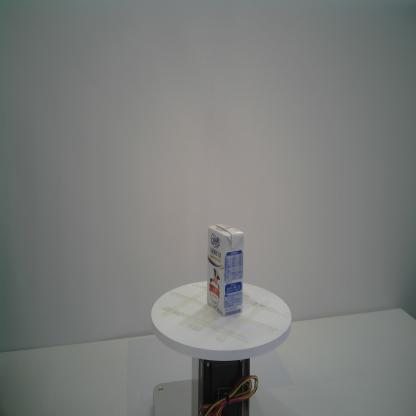Milk: (206, 223, 245, 318)
